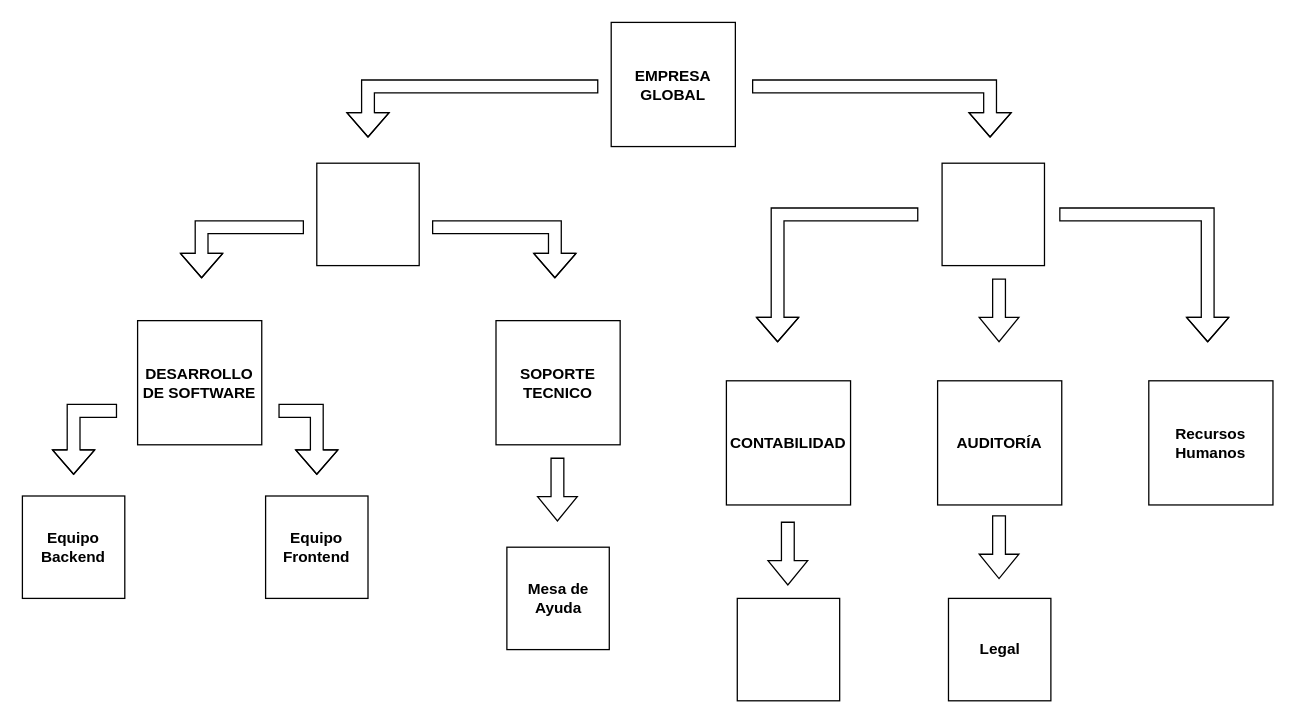
Image size: 1295x723. Some labels were removed from this diagram. Here are the shapes that lost their labels. From the top down, the box of each, then its label:
(316, 162, 419, 266): TECNOLOGÍA
(941, 162, 1044, 266): FINANZAS
(736, 597, 840, 701): Nómina
